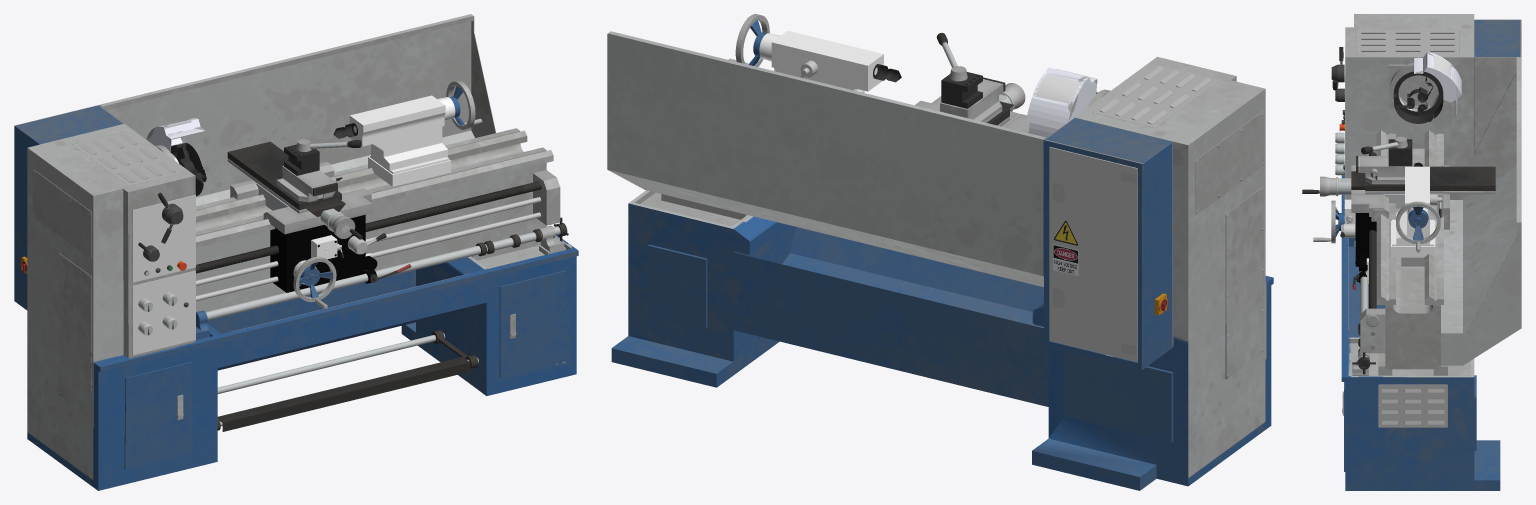
Rendered from Bench-Lathe-Art-T999-230V3-New.fbx.
The picture shows the model from 3 angles, left to right: view 1: azimuth 30°, elevation 25°; view 2: azimuth 150°, elevation 25°; view 3: azimuth 270°, elevation 25°; orthographic projection. The views are drawn at different scales.
Parts seen in each view (by area): view 1: Workbench, CarriageTop, TailstockBlock, Brake2, CarriageBody, ControlPanel, SpeedSwitchPanel, ClutchBar, Tray2, TurningBar, Brake1, FeedBar2 (+7 smaller); view 2: Workbench, BackPanel, TailstockBlock, Tray2, ProtectiveDevice, CarriageTop, ToolPost, TailstockHandwheel, ProtectiveGlass; view 3: Workbench, CarriageTop, Tray1, Tray2, TailstockBlock, 3JawLatheSpindle, ProtectiveDevice, TailstockHandwheel, CarriageBody, ToolTransversalWheel, TurningBar, ClutchBar (+5 smaller).
Part boxes in pixels (x1,y1,x2,y2): Workbench: (14, 14, 578, 490); CarriageTop: (227, 141, 372, 234); TailstockBlock: (349, 95, 455, 186); Brake2: (217, 357, 470, 431); CarriageBody: (270, 214, 365, 292); ControlPanel: (132, 194, 195, 282); SpeedSwitchPanel: (132, 270, 195, 355); ClutchBar: (205, 217, 568, 320); Tray2: (72, 131, 182, 185); TurningBar: (195, 181, 541, 273); Brake1: (217, 330, 478, 430); FeedBar2: (196, 212, 541, 301); Workbench: (607, 31, 1273, 490); BackPanel: (1049, 147, 1137, 361); TailstockBlock: (759, 30, 883, 92); Tray2: (1092, 64, 1220, 127); ProtectiveDevice: (1026, 67, 1097, 137); CarriageTop: (915, 77, 1029, 132); ToolPost: (941, 72, 982, 108); TailstockHandwheel: (728, 14, 769, 66); ProtectiveGlass: (1036, 74, 1081, 104); Workbench: (1341, 14, 1521, 490); CarriageTop: (1351, 156, 1495, 229); Tray1: (1378, 384, 1447, 427); Tray2: (1356, 30, 1459, 54); TailstockBlock: (1391, 166, 1435, 258); 3JawLatheSpindle: (1393, 71, 1443, 123); ProtectiveDevice: (1398, 52, 1461, 118); TailstockHandwheel: (1396, 201, 1440, 252); CarriageBody: (1344, 199, 1376, 266); ToolTransversalWheel: (1302, 176, 1351, 196); TurningBar: (1369, 152, 1376, 308); ClutchBar: (1352, 271, 1375, 374).
Size of the model in its own units: 213 by 129 by 92.6.
8 materials, 7 textured.
